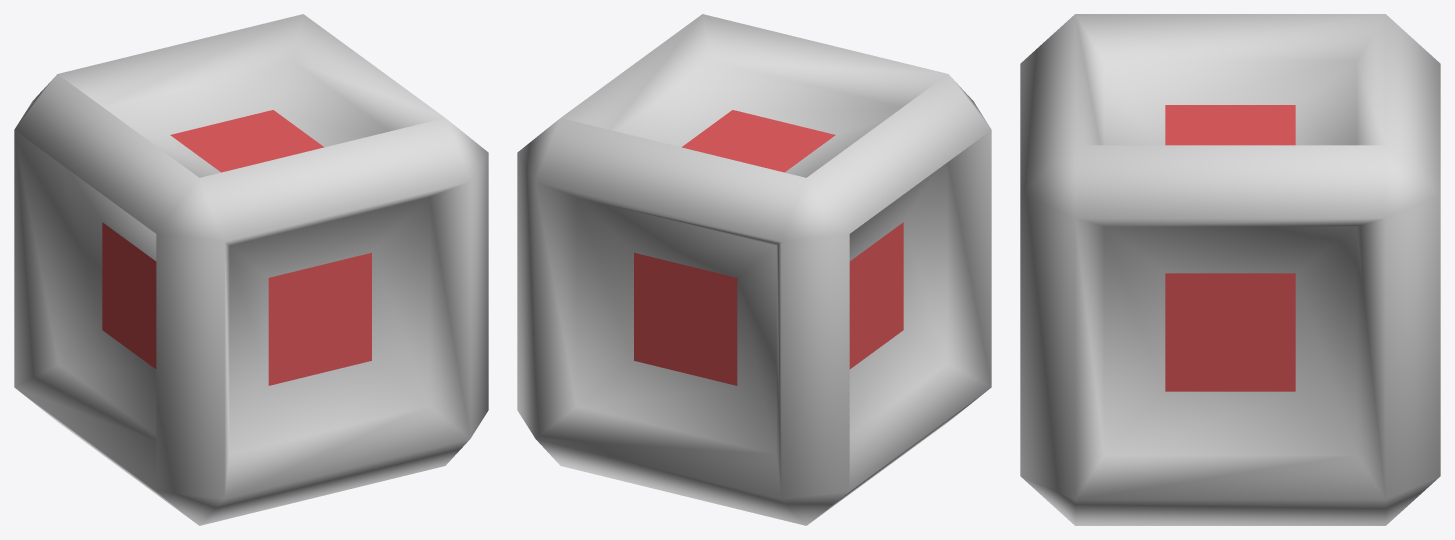
File: InteractionCube.fbx
3 views of the same model, side by side, from view 1: azimuth 30°, elevation 25°; view 2: azimuth 150°, elevation 25°; view 3: azimuth 270°, elevation 25° (orthographic). The views are drawn at different scales.
Visible parts, largest first — view 1: InteractionCube; view 2: InteractionCube; view 3: InteractionCube.
Part boxes in pixels (box(x1,y1,x2,y2)): InteractionCube: box(14, 14, 488, 525); InteractionCube: box(517, 14, 991, 525); InteractionCube: box(1020, 14, 1440, 525).
Bounding box in the file's own units: 0.7235 × 0.7235 × 0.7235.
